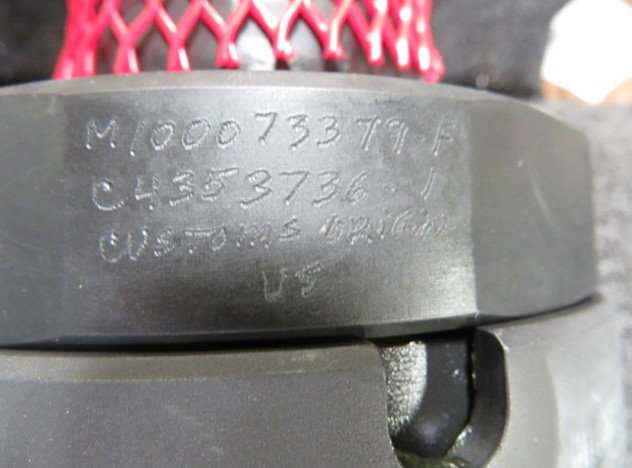character: (82, 112, 122, 158), (89, 175, 128, 215), (202, 163, 238, 206), (277, 164, 309, 210), (241, 163, 271, 208), (133, 168, 161, 214), (96, 229, 125, 272), (180, 115, 211, 155), (171, 168, 199, 212), (250, 108, 280, 149), (213, 117, 246, 154), (386, 109, 409, 162), (353, 112, 382, 154), (283, 112, 313, 151), (431, 116, 457, 161), (124, 118, 149, 163), (317, 111, 345, 151), (236, 223, 276, 251), (184, 227, 212, 265), (125, 226, 151, 266), (151, 118, 178, 156), (345, 168, 372, 206), (317, 168, 342, 206), (348, 214, 373, 248), (323, 212, 346, 248), (421, 214, 451, 241), (278, 216, 306, 244), (155, 226, 176, 262), (393, 207, 413, 244), (209, 224, 230, 257), (376, 208, 392, 243), (416, 210, 425, 246)
